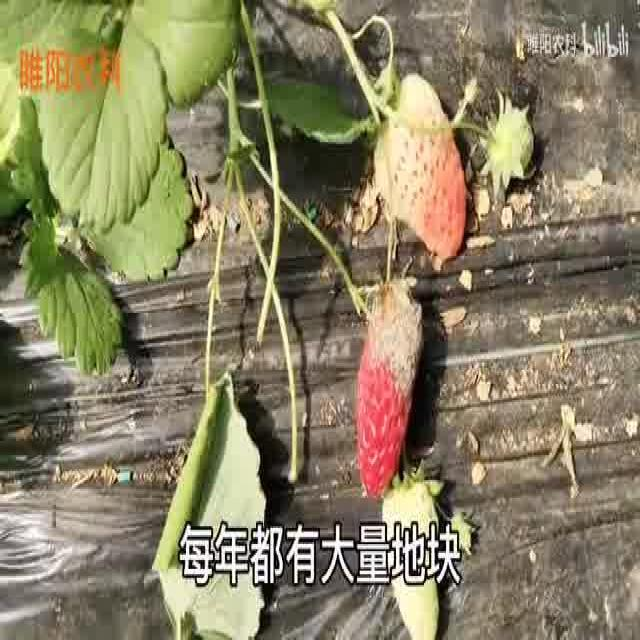Fruta sana: (373, 72, 469, 262), (483, 92, 533, 194)
Moho gris: (352, 280, 424, 500)
